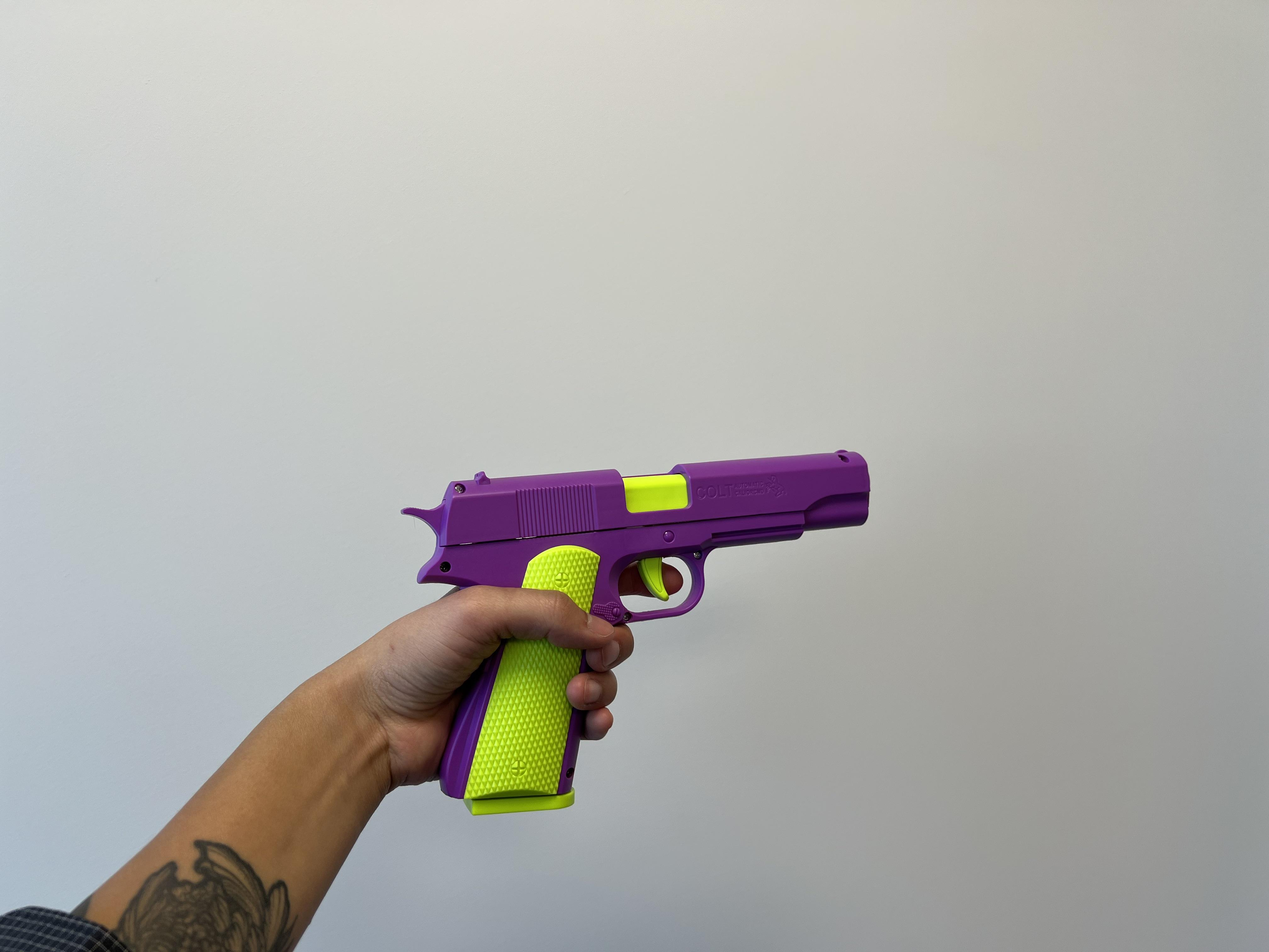Knife: (0, 576, 639, 952), (395, 442, 875, 820), (354, 587, 642, 795)
